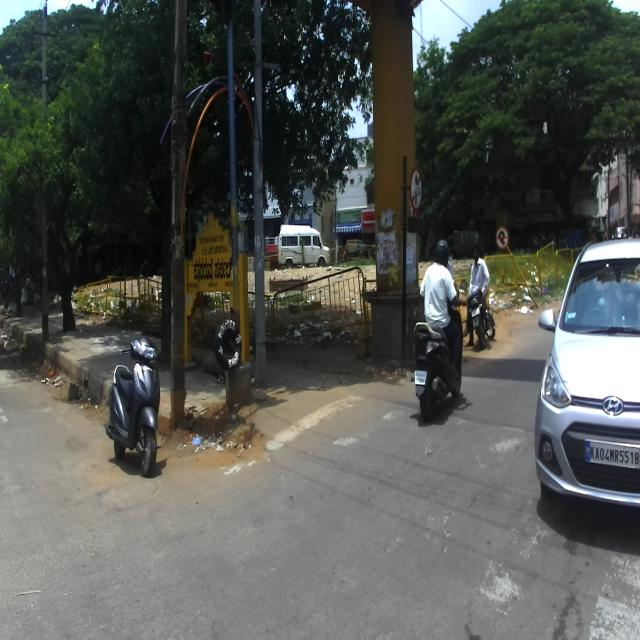car ahead at: (540, 232, 640, 520)
electric pole ahead at: (165, 0, 192, 420)
motorcycle ahead at: (106, 331, 162, 469), (409, 311, 464, 424)
sign board ahead at: (407, 165, 425, 215), (492, 224, 514, 252)
